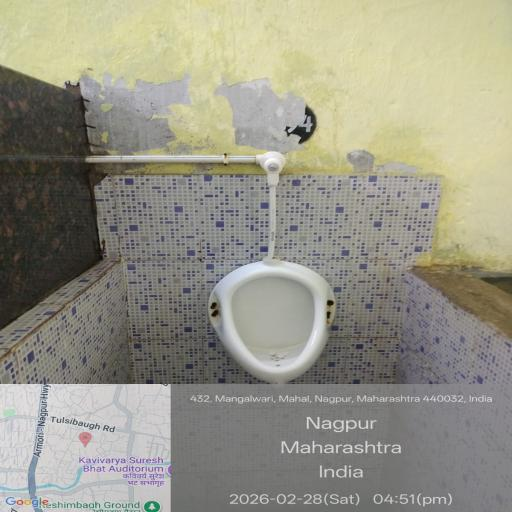clean_floor: (3, 116, 219, 504), (246, 391, 461, 512)
clean_urinal: (196, 234, 354, 378)
